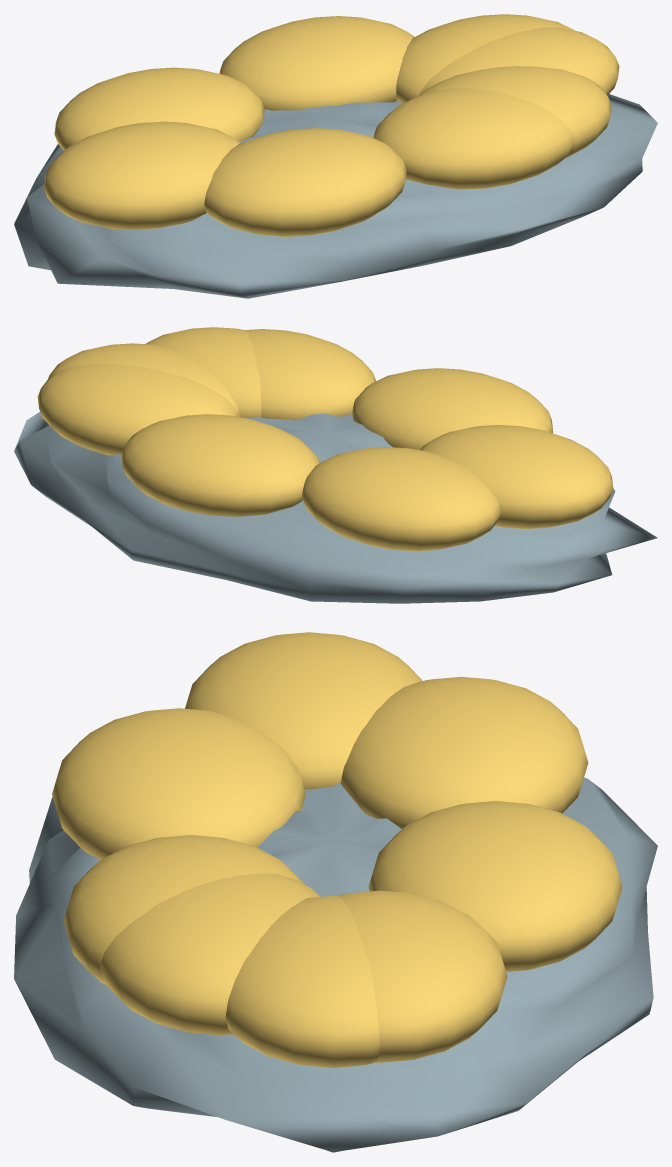
File: underwater-reef-worlds-encrusting-sponge-22a7185b__7018.glb
3 renders of one model, top to bottom at view 1: azimuth 30°, elevation 25°; view 2: azimuth 150°, elevation 25°; view 3: azimuth 270°, elevation 25°, orthographic. The views are drawn at different scales.
Visible parts, largest first — view 1: encrusting-sponge; view 2: encrusting-sponge; view 3: encrusting-sponge.
Part boxes in pixels (x1=…): encrusting-sponge: x1=14, y1=14, x2=657, y2=298; encrusting-sponge: x1=14, y1=327, x2=657, y2=603; encrusting-sponge: x1=14, y1=632, x2=657, y2=1152.
Bounding box in the file's own units: 1.22 × 0.2 × 0.7602.
